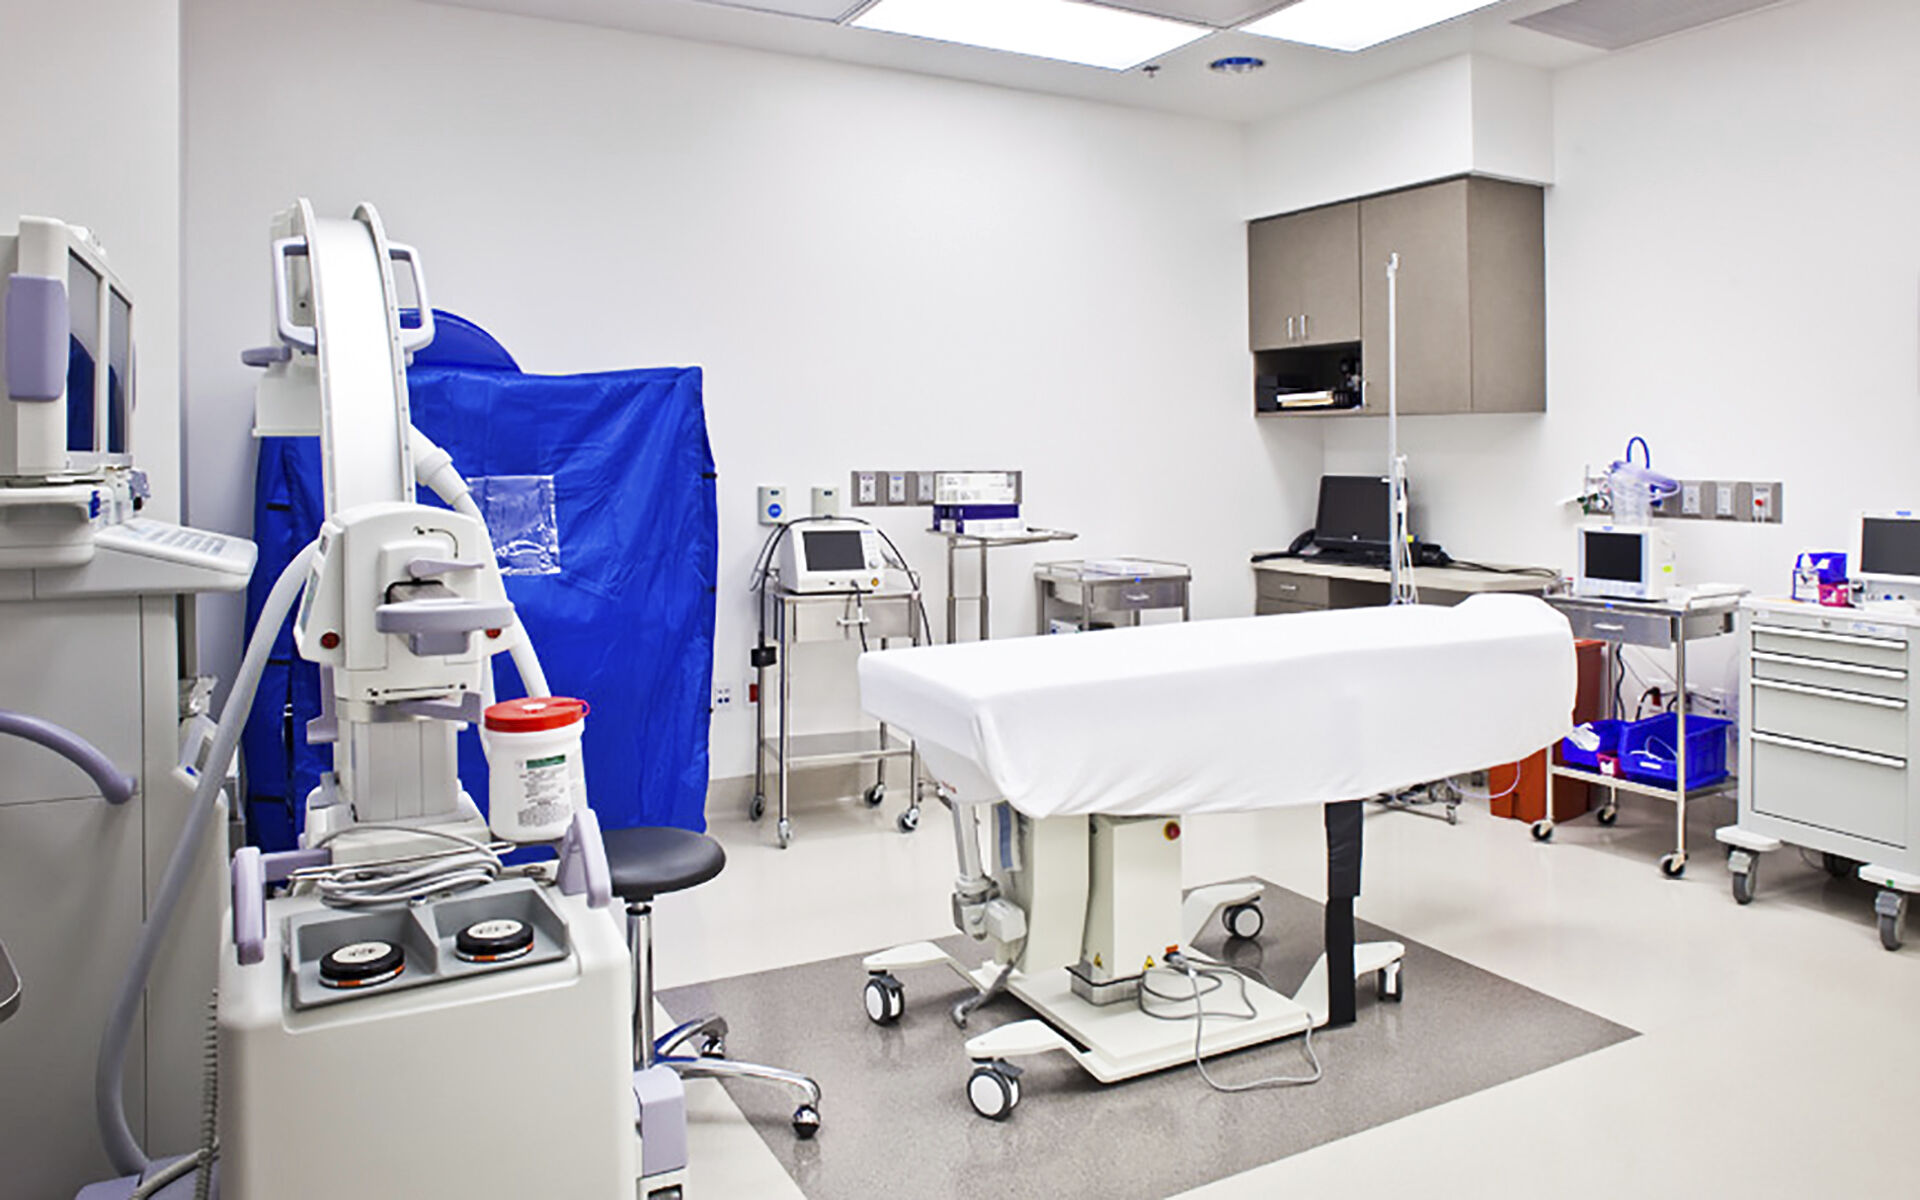bedside_monitor: (1574, 523, 1657, 590), (1845, 513, 1920, 582)
cabinet: (1226, 176, 1566, 423)
chair: (599, 825, 822, 1136)
computer: (1, 206, 138, 460), (1313, 473, 1410, 561)
counter: (1252, 549, 1561, 617)
handle: (1588, 619, 1628, 636), (1286, 317, 1295, 341), (1299, 312, 1308, 340), (1279, 583, 1298, 592)
iv_pole: (1380, 252, 1417, 604)
keyboard: (111, 496, 253, 581)
medical_drawer: (1715, 596, 1920, 951)
operating_bed: (857, 593, 1579, 1123)
utility_cart: (1530, 588, 1751, 881), (751, 567, 921, 847), (1034, 557, 1192, 635)
waste_bin: (1491, 635, 1603, 825)
